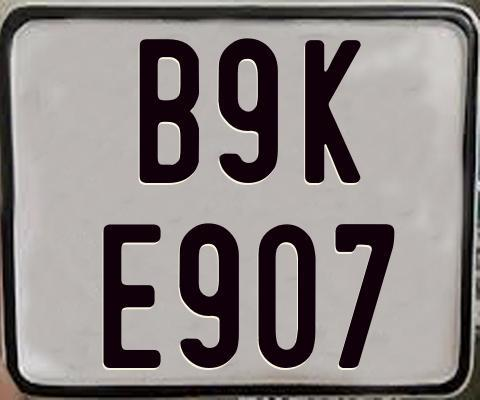0: (256, 223, 315, 368)
7: (332, 224, 396, 374)
9: (215, 35, 280, 185), (179, 223, 239, 369)
B: (140, 39, 205, 183)
E: (102, 222, 162, 366)
K: (302, 40, 361, 185)
